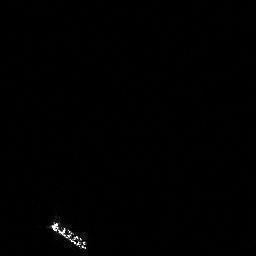ship: (50, 219, 93, 253)
